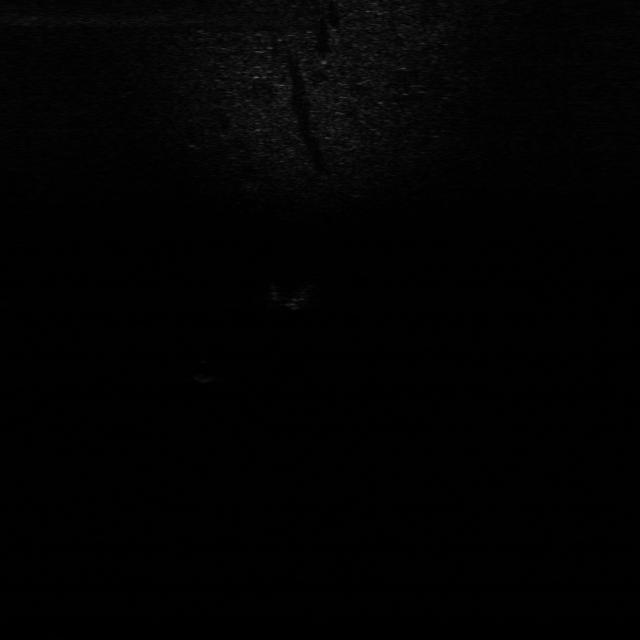ball: (183, 356, 224, 384)
human body: (270, 278, 320, 310)
